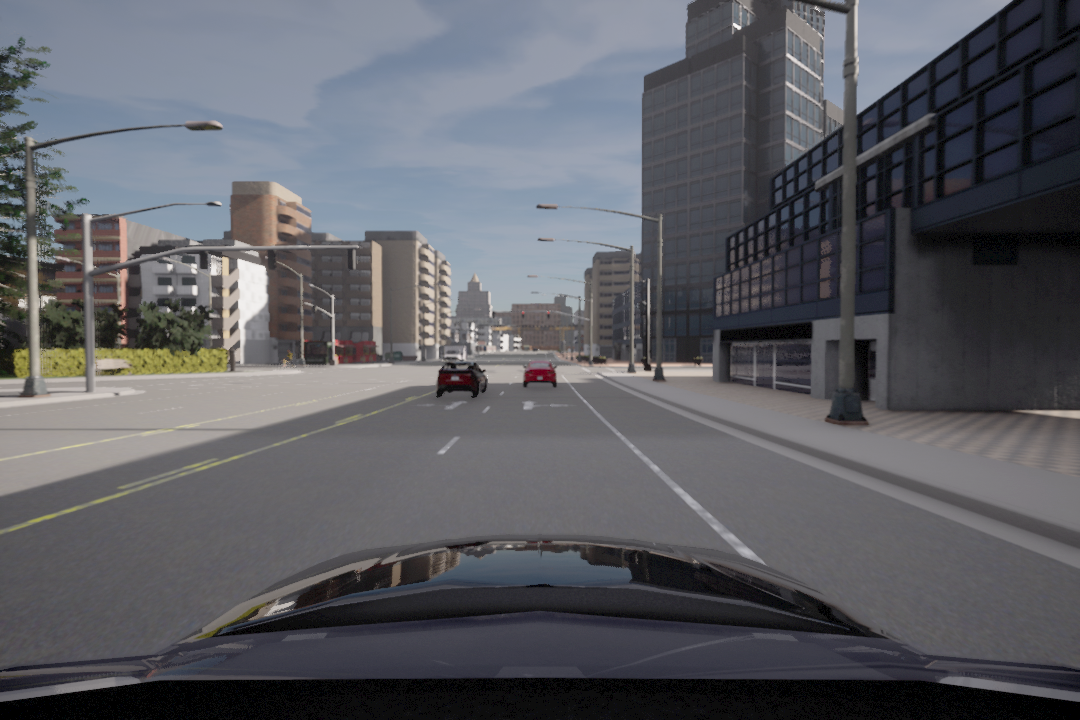RoadSign_forward_left: (418, 398, 471, 415)
RoadSign_forward_right: (517, 395, 574, 414)
